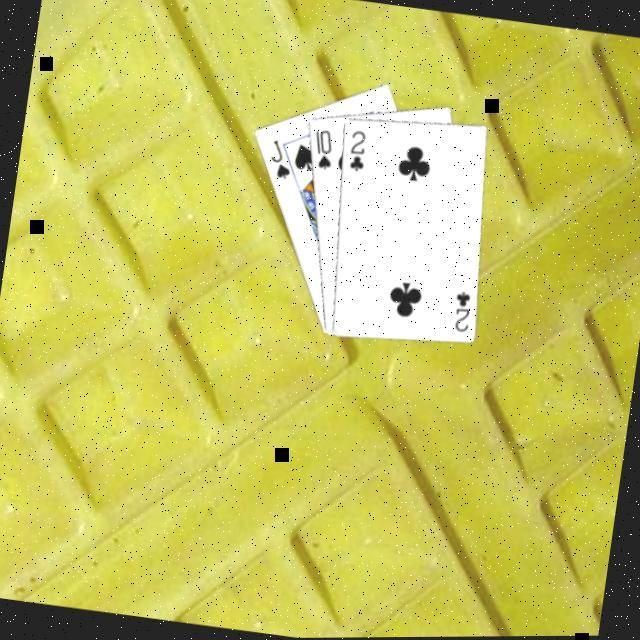10S: (309, 124, 341, 173)
2C: (345, 124, 374, 174), (450, 286, 479, 335)
JS: (266, 134, 300, 181)
